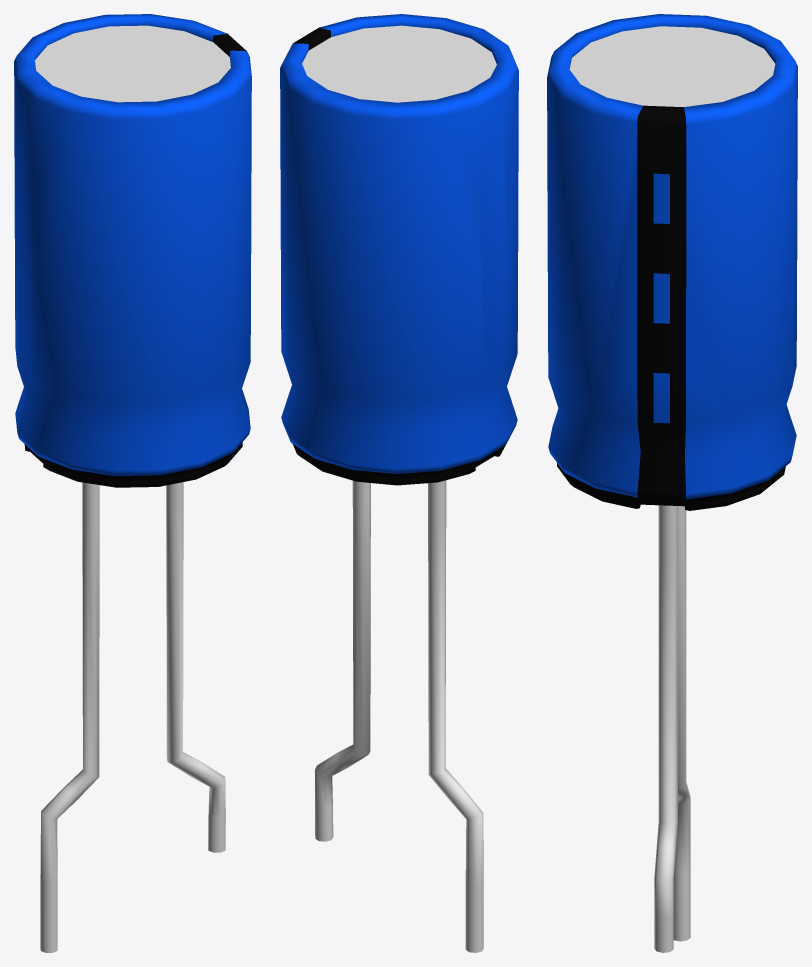
Rendered from capacitor.glb.
The picture shows the model from 3 angles, left to right: view 1: azimuth 30°, elevation 25°; view 2: azimuth 150°, elevation 25°; view 3: azimuth 270°, elevation 25°; orthographic projection. The views are drawn at different scales.
Visible parts, largest first — view 1: Capacitor, Legs.001, Lid; view 2: Capacitor, Legs.001, Lid; view 3: Capacitor, Legs.001, Lid.
Boxes of the visible parts, box(x1,y1,x2,y2) form: Capacitor: box(14, 14, 251, 487); Legs.001: box(40, 482, 225, 952); Lid: box(35, 25, 230, 102); Capacitor: box(280, 14, 518, 485); Legs.001: box(315, 480, 483, 952); Lid: box(302, 25, 496, 102); Capacitor: box(547, 14, 797, 510); Legs.001: box(654, 505, 690, 952); Lid: box(569, 26, 775, 106).
Size of the model in its own units: 0.00646 by 0.026 by 0.00646.
